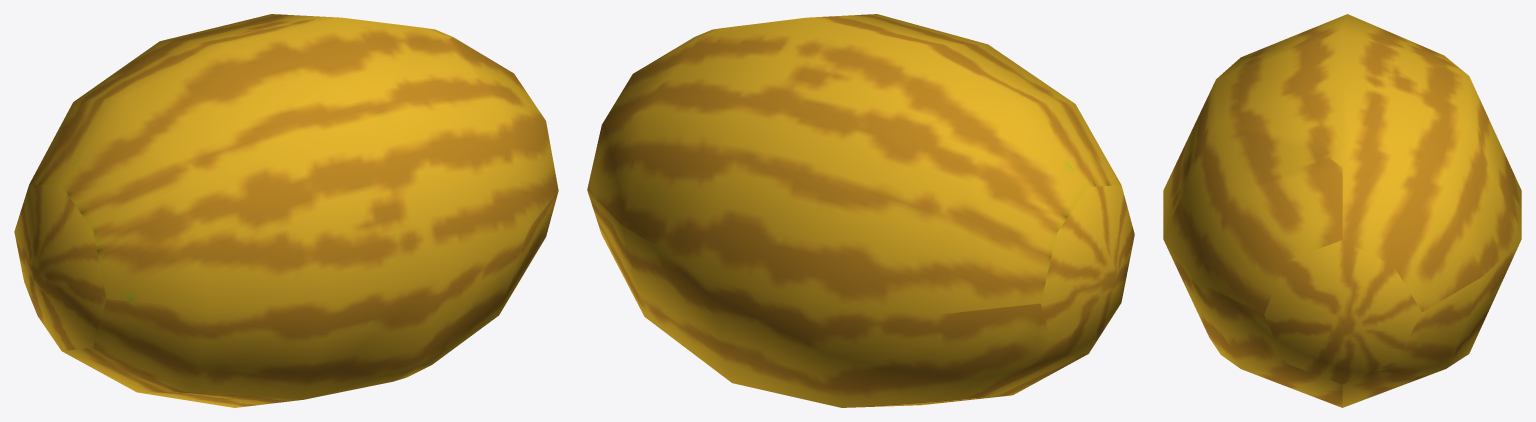
The model's file is watermelon_golden.fbx.
3 views of the same model, side by side, from view 1: azimuth 30°, elevation 25°; view 2: azimuth 150°, elevation 25°; view 3: azimuth 270°, elevation 25° (orthographic). The views are drawn at different scales.
Parts seen in each view (by area): view 1: watermelon_golden; view 2: watermelon_golden; view 3: watermelon_golden.
Part boxes in pixels (x1=…): watermelon_golden: x1=14, y1=14, x2=558, y2=407; watermelon_golden: x1=587, y1=14, x2=1134, y2=407; watermelon_golden: x1=1163, y1=14, x2=1521, y2=407.
Bounding box in the file's own units: 2.76 × 1.95 × 1.92.
